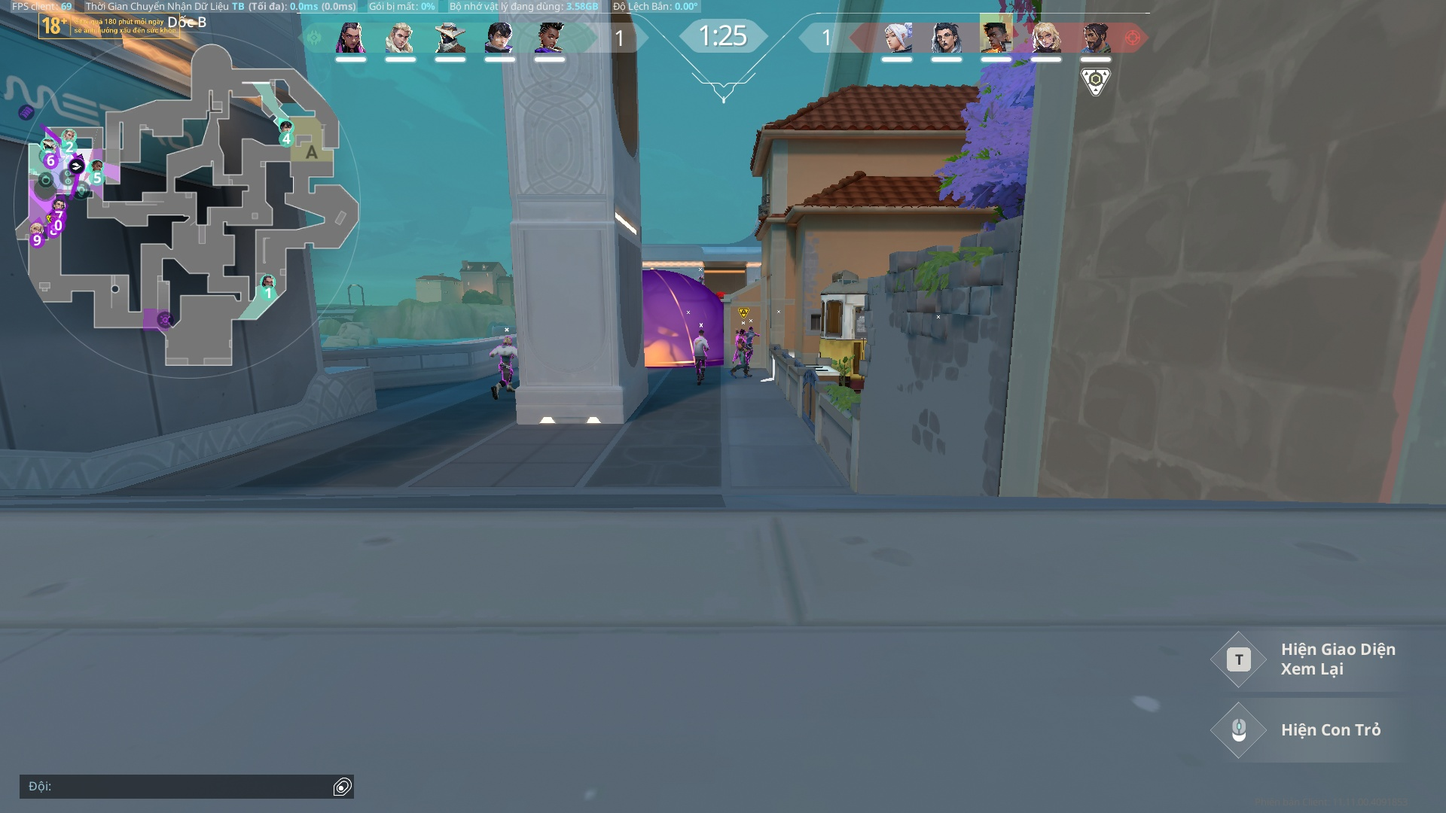body: (693, 336, 708, 356), (735, 336, 747, 352), (747, 333, 754, 346)
head: (697, 328, 705, 337), (738, 328, 746, 336), (749, 327, 754, 333)
